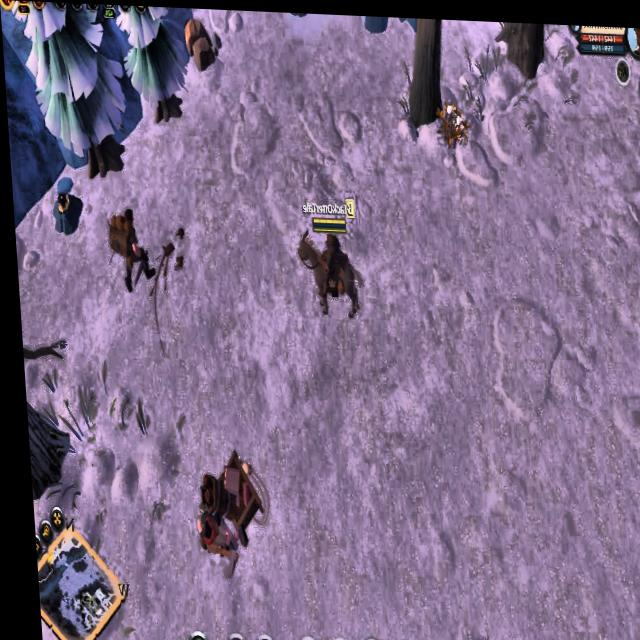copperore: (48, 184, 84, 237)
limestone: (180, 15, 218, 67)
